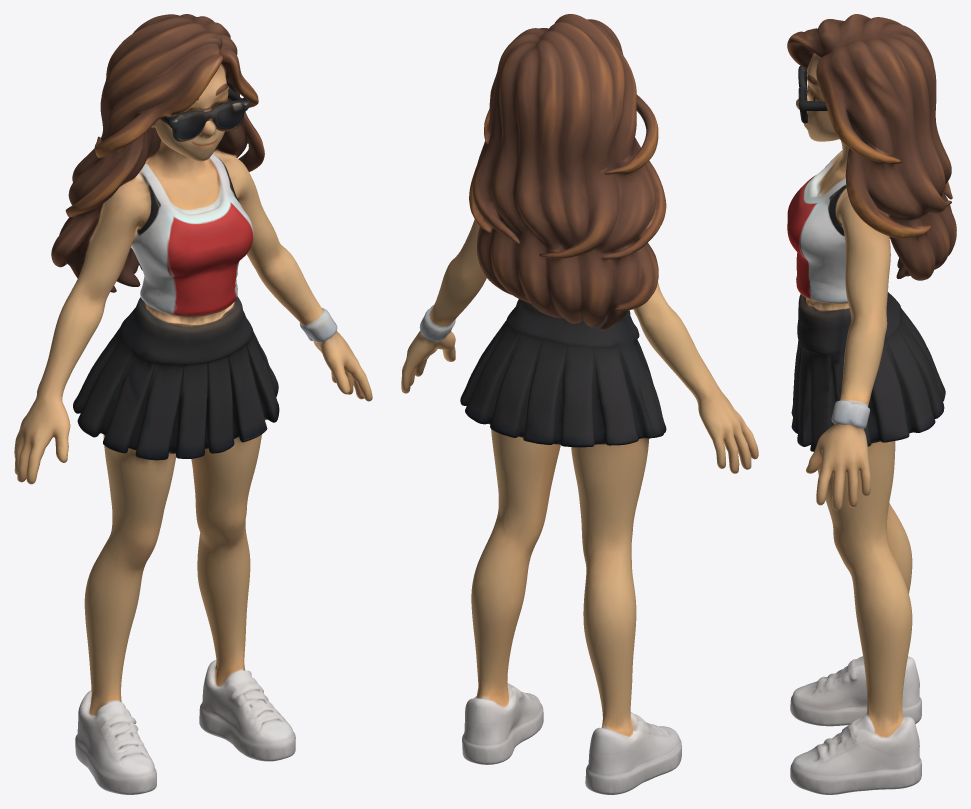
File: girl_animated.glb
The picture shows the model from 3 angles, left to right: view 1: azimuth 30°, elevation 25°; view 2: azimuth 150°, elevation 25°; view 3: azimuth 270°, elevation 25°; orthographic projection.
Parts seen in each view (by area): view 1: tripo_node_d543ab51-aae3-4697-800f-da8cff65ce99; view 2: tripo_node_d543ab51-aae3-4697-800f-da8cff65ce99; view 3: tripo_node_d543ab51-aae3-4697-800f-da8cff65ce99.
Boxes of the visible parts, <box> form: tripo_node_d543ab51-aae3-4697-800f-da8cff65ce99: <box>14,14,372,794</box>; tripo_node_d543ab51-aae3-4697-800f-da8cff65ce99: <box>401,14,758,794</box>; tripo_node_d543ab51-aae3-4697-800f-da8cff65ce99: <box>787,14,956,794</box>.
Bounding box in the file's own units: 0.4953 × 1 × 0.2099.
1 material, 1 textured.
